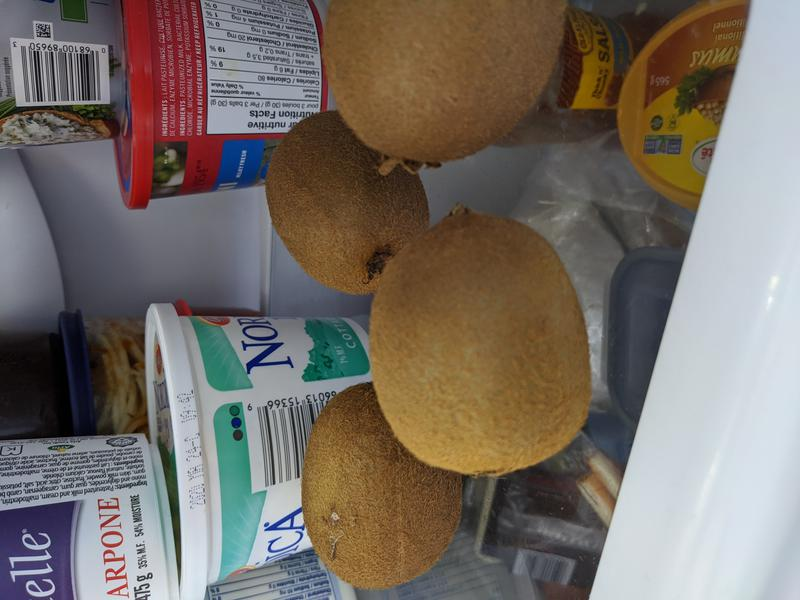kiwi: (368, 212, 594, 478), (320, 1, 568, 166), (302, 382, 465, 588), (265, 110, 431, 296)
